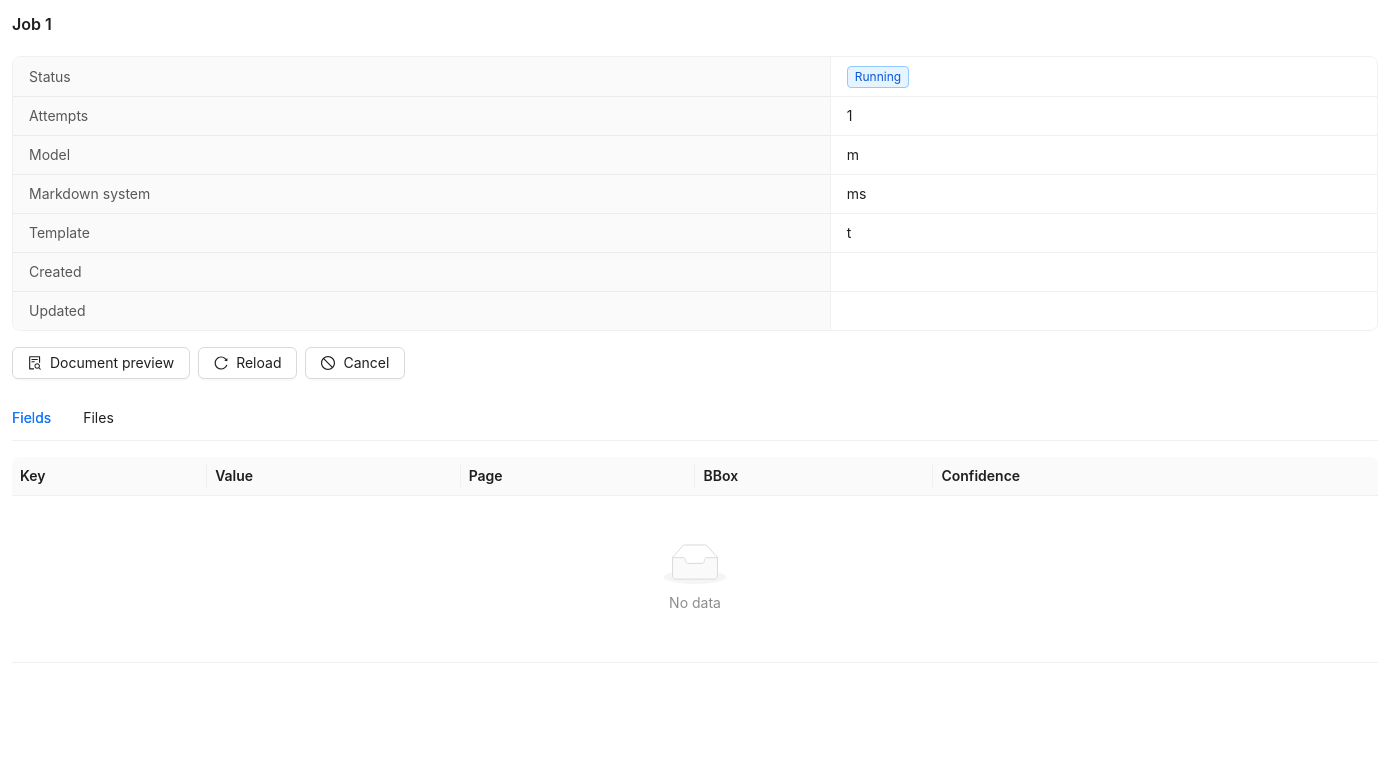
Test: shows reload and cancel only when running
Expected: the text "Reload" is shown, x1=236 y1=355 x2=281 y2=371
Expected: the text "Cancel" is shown, x1=344 y1=355 x2=389 y2=371
Click the tab "Files" at (98, 418), box x1=83 y1=407 x2=114 y2=429
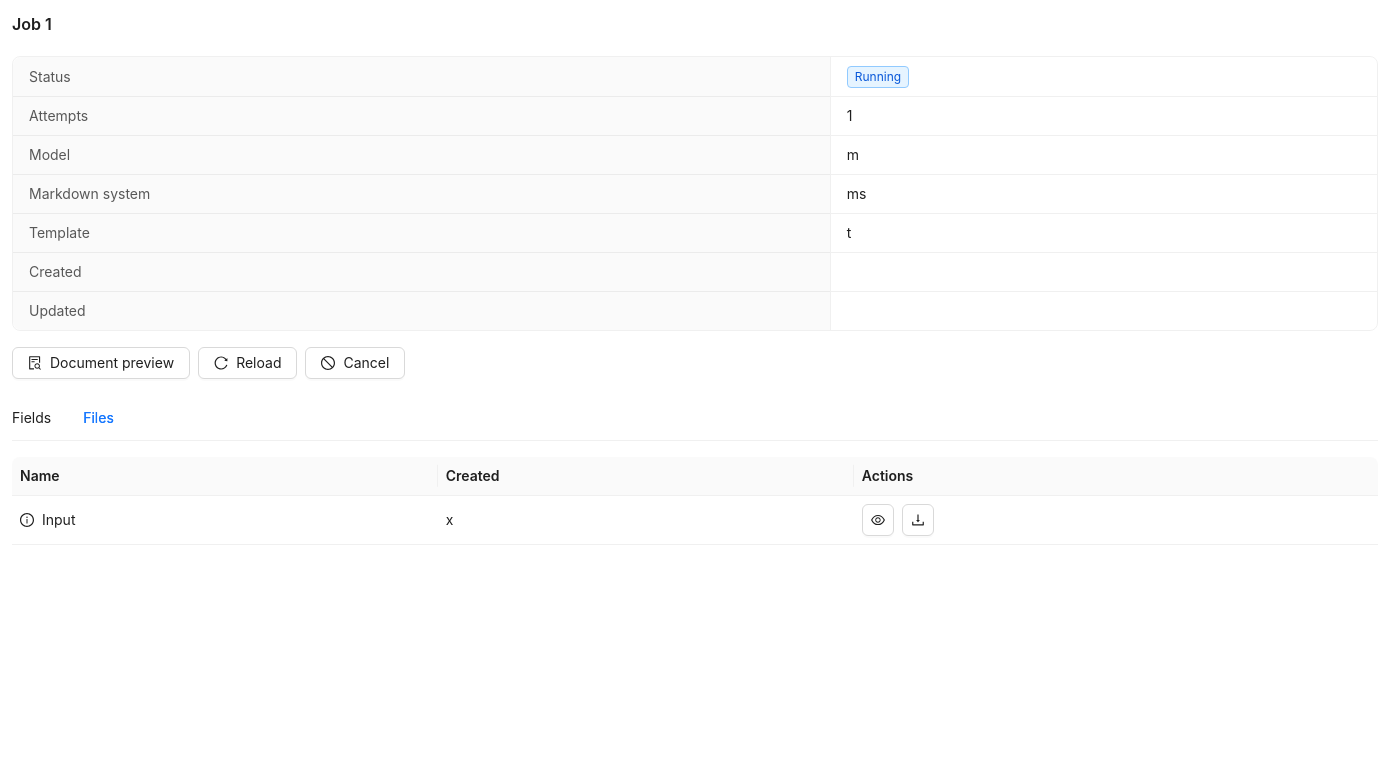
Result: the text "Input" is shown at x1=42 y1=509 x2=76 y2=531
